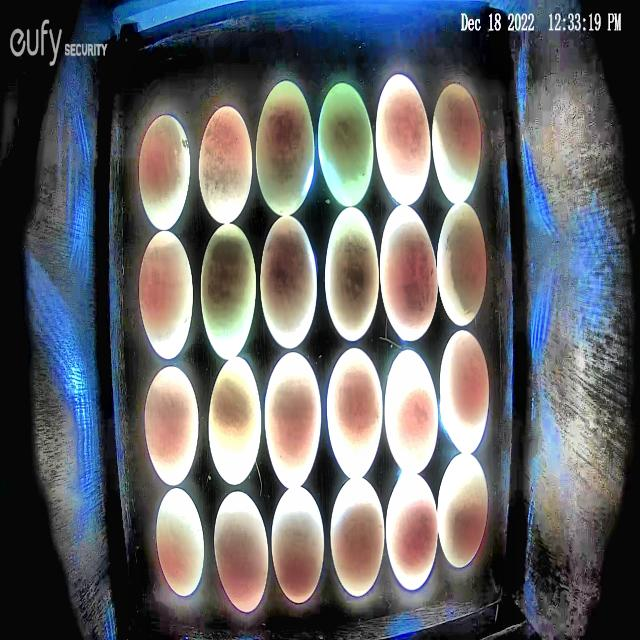UF: (256, 80, 316, 218), (379, 205, 439, 343), (264, 349, 322, 491), (259, 212, 318, 349), (374, 73, 432, 207), (200, 224, 257, 360), (326, 346, 383, 481), (324, 206, 380, 343), (318, 80, 375, 208), (138, 229, 193, 361), (213, 490, 270, 614), (208, 356, 262, 486), (384, 349, 439, 475), (198, 103, 254, 225), (143, 365, 199, 487), (385, 468, 439, 592), (330, 476, 385, 597), (137, 112, 192, 231), (436, 199, 487, 326), (271, 484, 325, 603), (440, 329, 490, 455), (432, 82, 481, 205), (437, 451, 488, 568), (156, 486, 206, 599)
